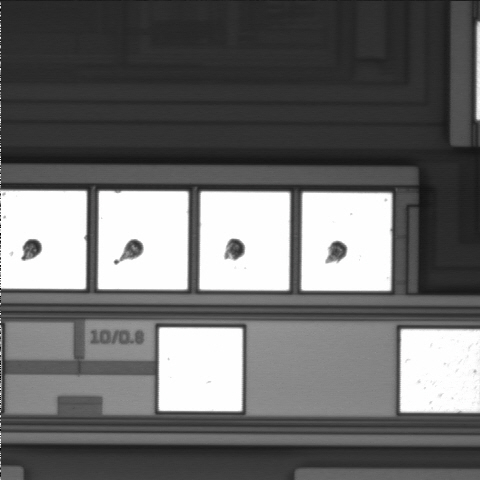pad: (301, 193, 392, 291), (98, 191, 188, 290), (200, 192, 290, 290), (159, 328, 242, 411)
